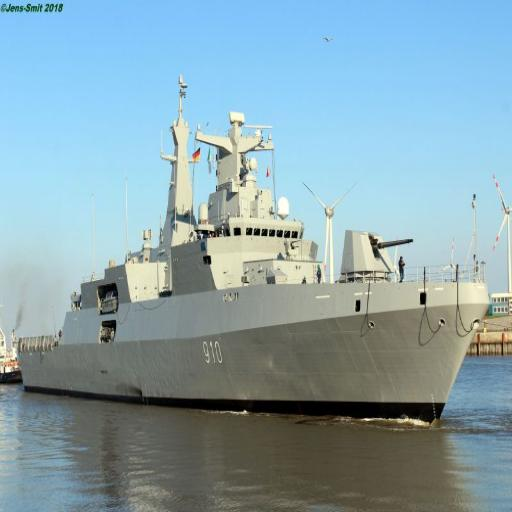Fragata: (13, 76, 504, 427)
